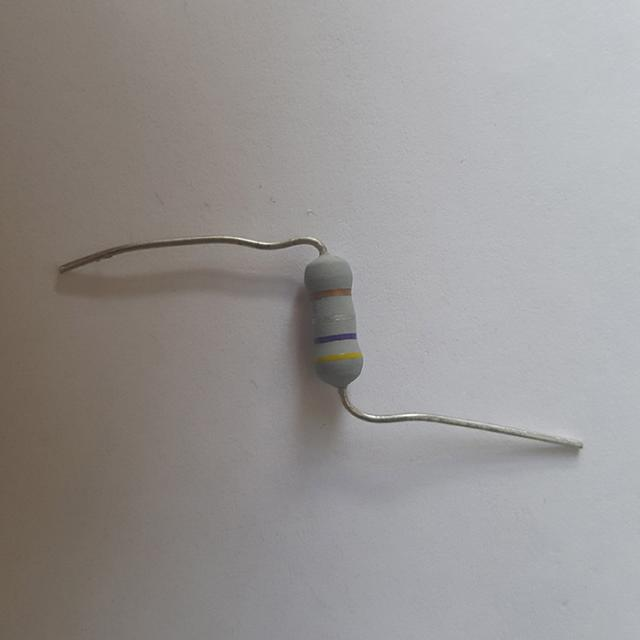Resistor Carbon-Film: (303, 251, 374, 391)
